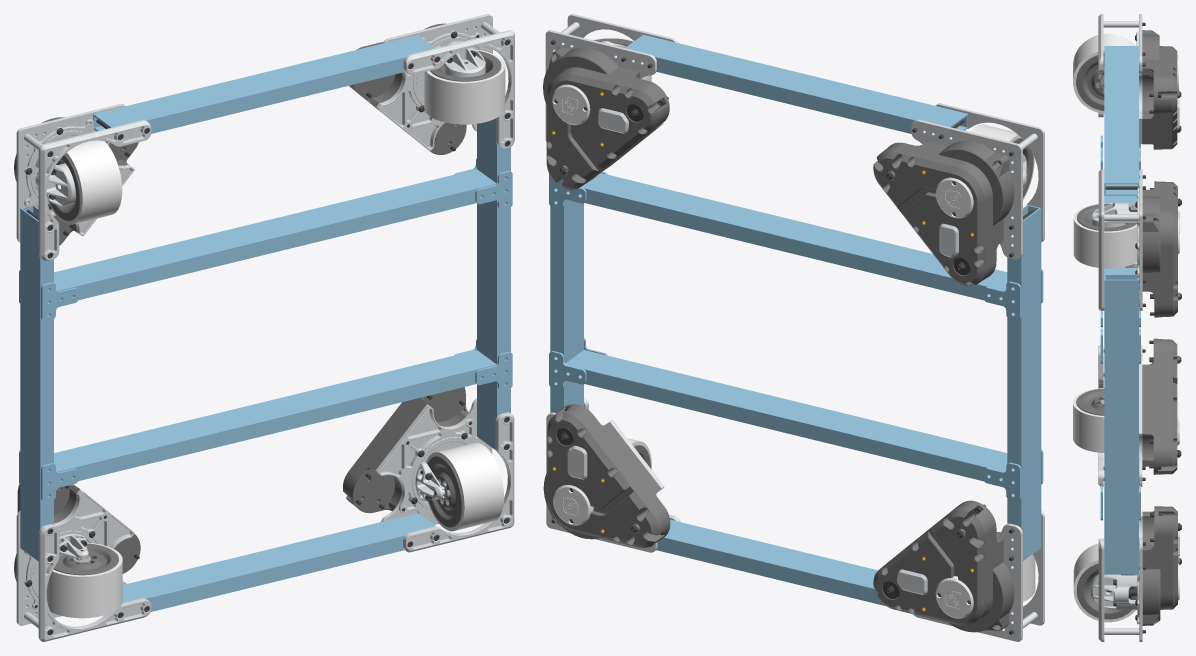
Rendered from Swerve_MK5i.glb.
The picture shows the model from 3 angles, left to right: view 1: azimuth 30°, elevation 25°; view 2: azimuth 150°, elevation 25°; view 3: azimuth 270°, elevation 25°; orthographic projection. The views are drawn at different scales.
Visible parts, largest first — view 1: Connector Bar (×2), Part 10 (×4), Length Bar (×2), Part 4 (×4), Width Bar (×2), Part 6 (×4), Part 2 (×4), Connector (×4); view 2: Part 10 (×4), Connector Bar (×2), Length Bar (×2), Width Bar (×2), Part 6 (×3), Connector (×4), Part 4; view 3: Part 10 (×4), Width Bar, Part 4 (×4), Length Bar, Part 6 (×4), Part 2 (×2), Part 7 (×3), Connector Bar.
Boxes of the visible parts, x1,y1,x2,y2 form: Connector Bar (×2): (54,169,496,481); Part 10 (×4): (14,14,492,625); Length Bar (×2): (93,35,435,611); Part 4 (×4): (46,49,505,618); Width Bar (×2): (20,118,510,561); Part 6 (×4): (38,30,514,641); Part 2 (×4): (30,37,485,597); Connector (×4): (41,171,512,501); Part 10 (×4): (543,30,1022,641); Connector Bar (×2): (565,173,1007,481); Length Bar (×2): (625,34,967,605); Width Bar (×2): (550,188,1041,560); Part 6 (×3): (567,14,1044,625); Connector (×4): (549,174,1021,501); Part 4: (970,124,1034,200); Part 10 (×4): (1135,14,1181,641); Width Bar: (1104,274,1138,574); Part 4 (×4): (1073,33,1137,622); Length Bar: (1104,46,1138,195); Part 6 (×4): (1098,14,1104,641); Part 2 (×2): (1090,202,1137,609); Part 7 (×3): (1103,21,1139,634); Connector Bar: (1104,195,1137,274).
Size of the model in its own units: 0.6868 by 0.6859 by 0.1573.
